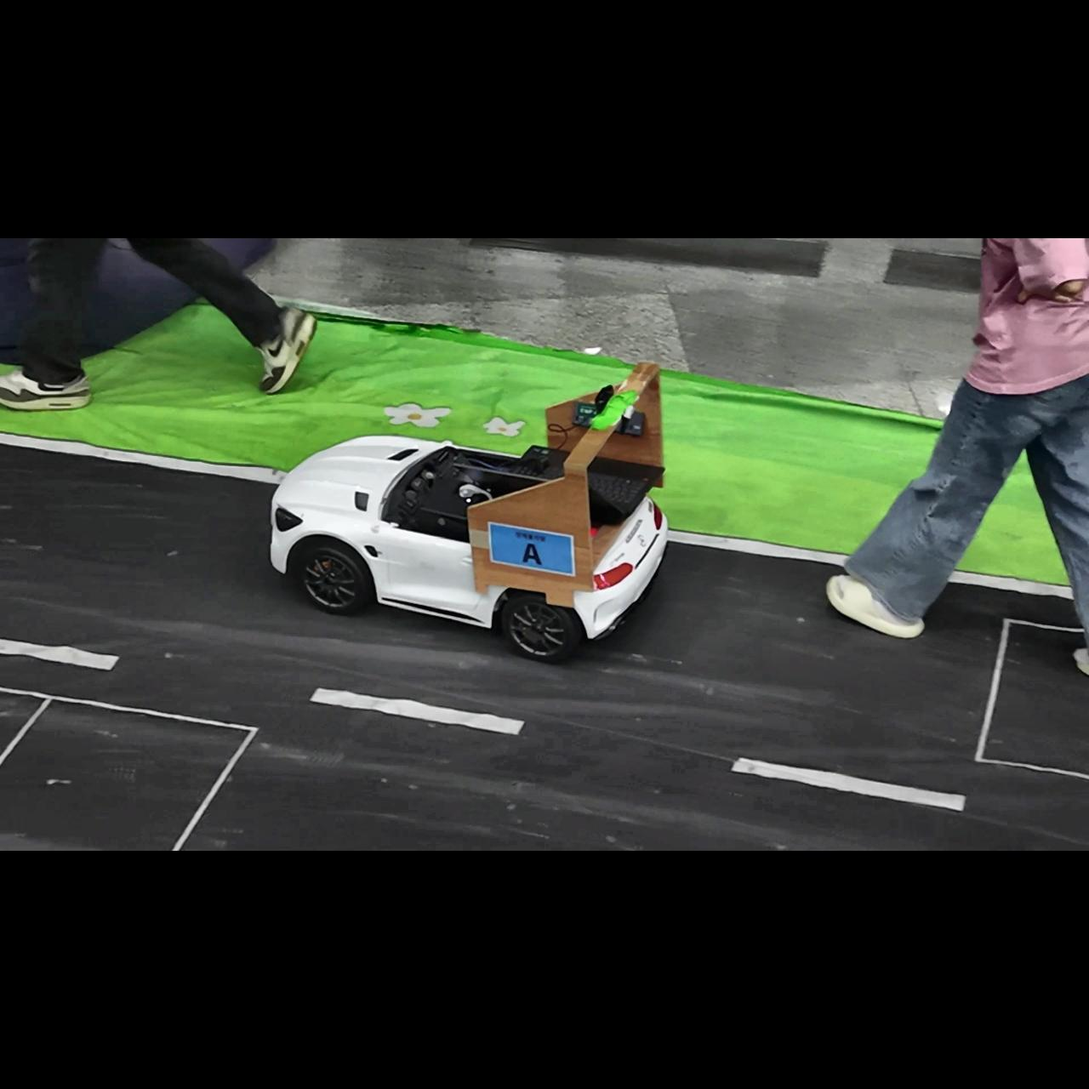broken_line: (730, 757, 966, 811), (309, 687, 526, 735), (0, 639, 120, 671)
